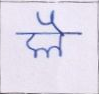au_matra: (42, 11, 68, 51)
